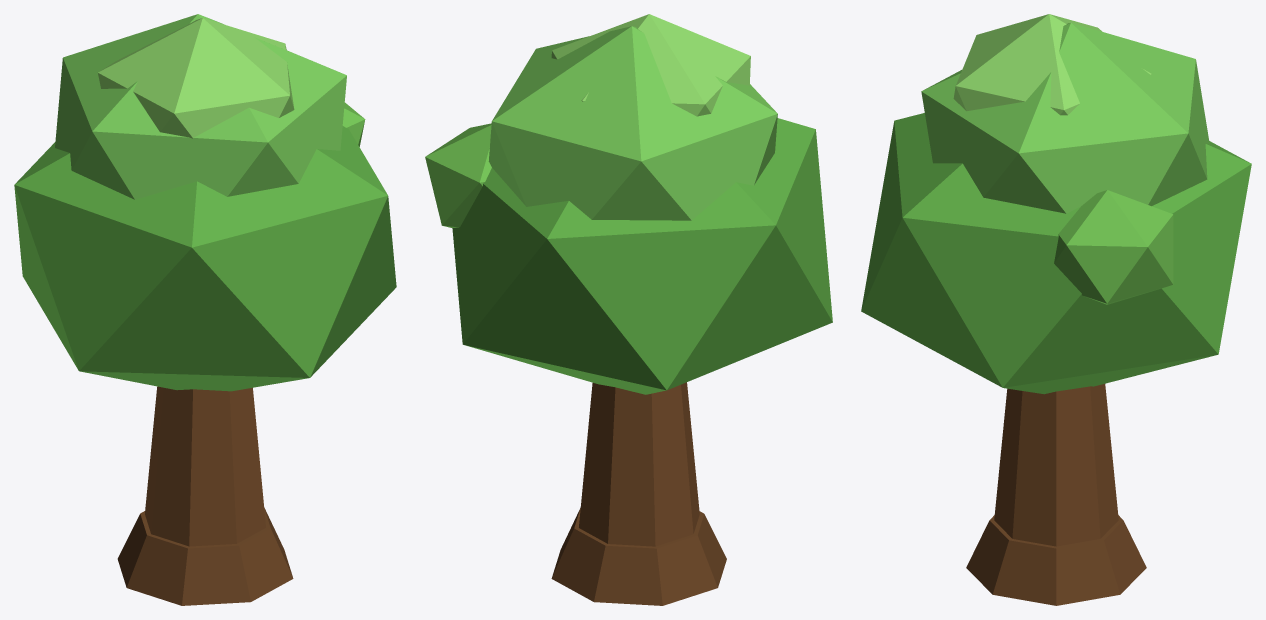
File: arvore.glb
The picture shows the model from 3 angles, left to right: view 1: azimuth 30°, elevation 25°; view 2: azimuth 150°, elevation 25°; view 3: azimuth 270°, elevation 25°; orthographic projection.
Parts seen in each view (by area): view 1: arvore_copa_baixa, arvore_copa_media, arvore_tronco, arvore_copa_alta, arvore_tronco_base, arvore_copa_lateral; view 2: arvore_copa_baixa, arvore_copa_media, arvore_tronco, arvore_tronco_base, arvore_copa_alta, arvore_copa_lateral; view 3: arvore_copa_baixa, arvore_copa_media, arvore_tronco, arvore_copa_lateral, arvore_tronco_base, arvore_copa_alta.
Boxes of the visible parts, x1,y1,x2,y2 form: arvore_copa_baixa: (14, 126, 396, 391); arvore_copa_media: (55, 14, 346, 199); arvore_tronco: (145, 386, 265, 546); arvore_copa_alta: (98, 18, 294, 138); arvore_tronco_base: (117, 508, 293, 605); arvore_copa_lateral: (342, 102, 365, 146); arvore_copa_baixa: (452, 118, 832, 394); arvore_copa_media: (488, 26, 777, 220); arvore_tronco: (579, 382, 699, 546); arvore_tronco_base: (551, 508, 726, 605); arvore_copa_alta: (551, 14, 750, 116); arvore_copa_lateral: (425, 123, 491, 227); arvore_copa_baixa: (861, 113, 1251, 394); arvore_copa_media: (921, 22, 1209, 213); arvore_tronco: (994, 384, 1118, 546); arvore_copa_lateral: (1054, 190, 1173, 304); arvore_tronco_base: (966, 515, 1146, 605); arvore_copa_alta: (953, 14, 1151, 115).
Bounding box in the file's own units: 2.69 × 4.17 × 2.68.
